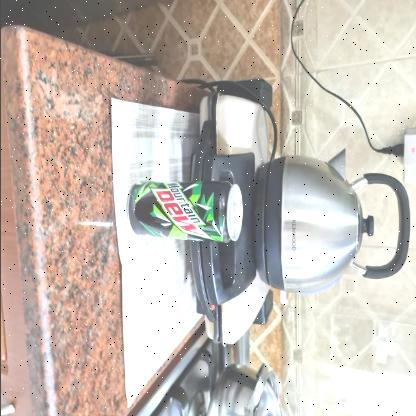Can: (125, 175, 243, 244)
